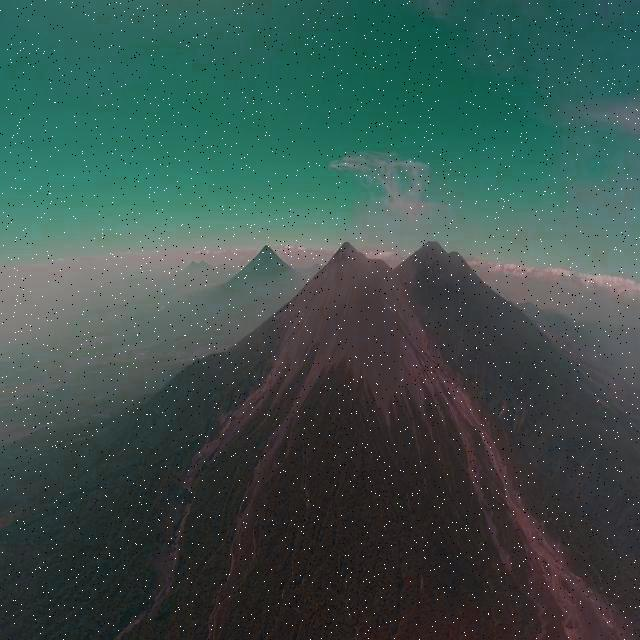Summit: (326, 239, 368, 271)
